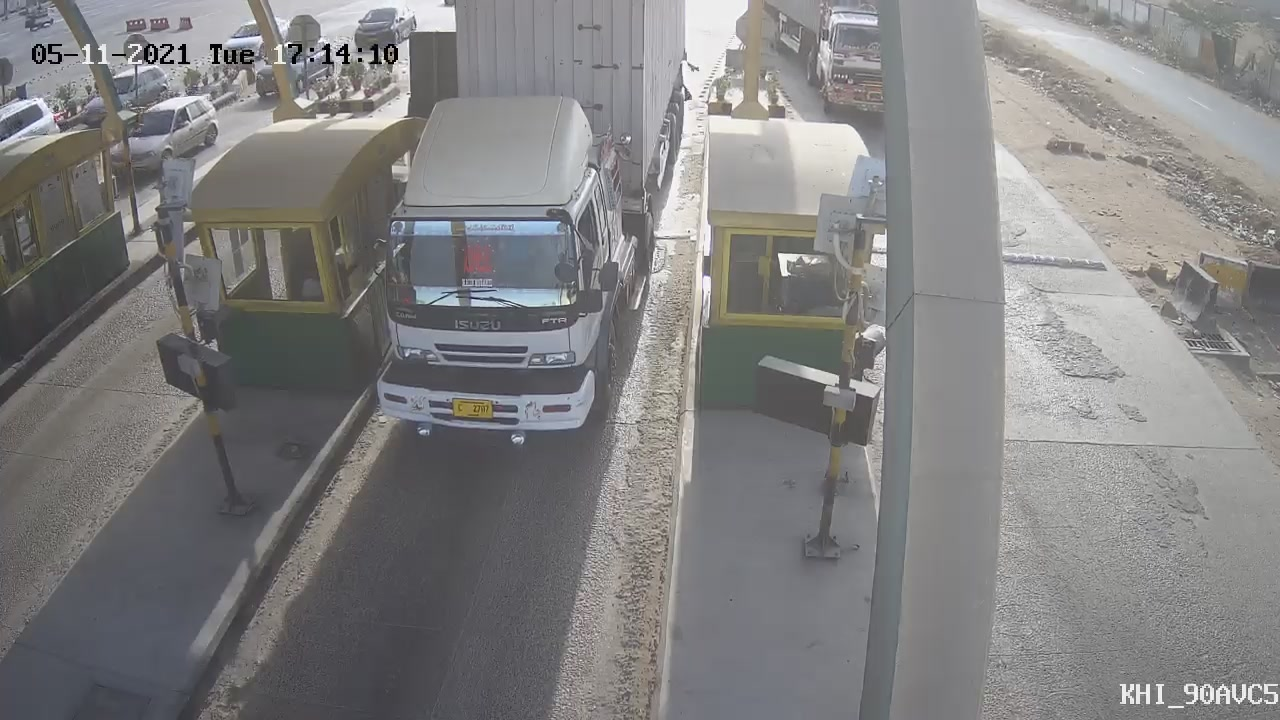F6: (318, 1, 712, 469)
